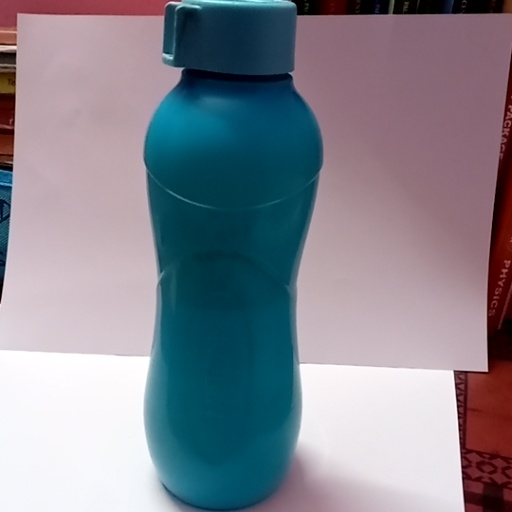bottle: (130, 0, 325, 512)
